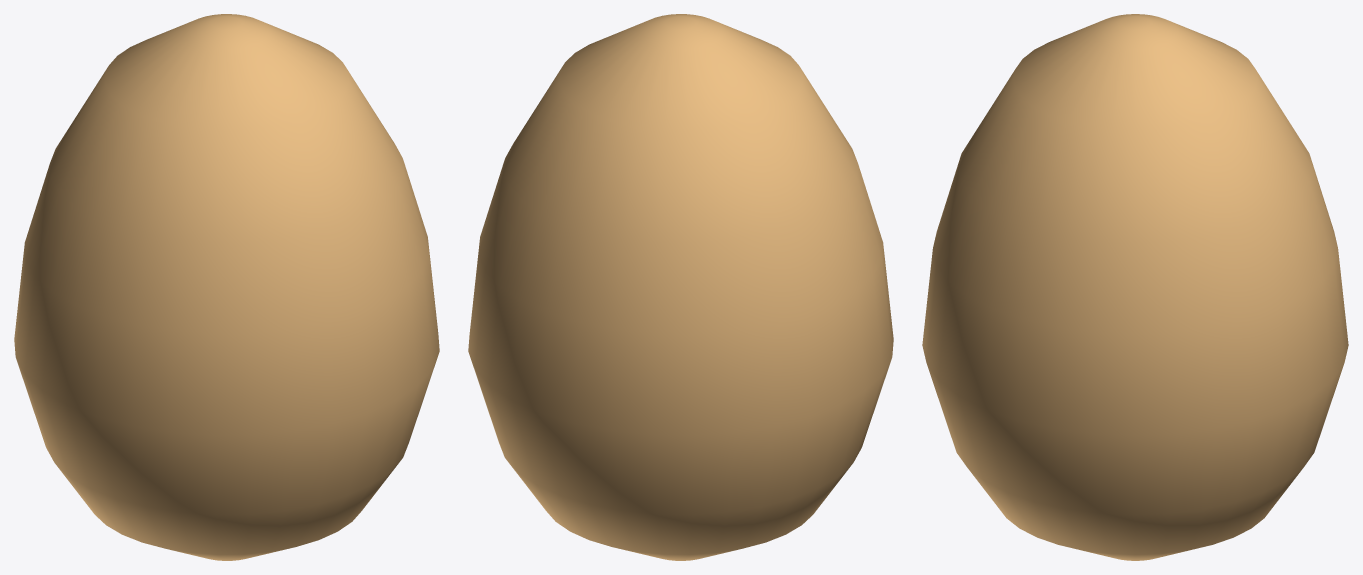
Rendered from egg.fbx.
3 renders of one model, left to right at view 1: azimuth 30°, elevation 25°; view 2: azimuth 150°, elevation 25°; view 3: azimuth 270°, elevation 25°, orthographic.
Parts seen in each view (by area): view 1: Egg; view 2: Egg; view 3: Egg.
Part boxes in pixels (x1,y1,x2,y2): Egg: [14, 14, 439, 560]; Egg: [468, 14, 893, 560]; Egg: [922, 14, 1348, 560].
Size of the model in its own units: 453 by 612 by 453.
